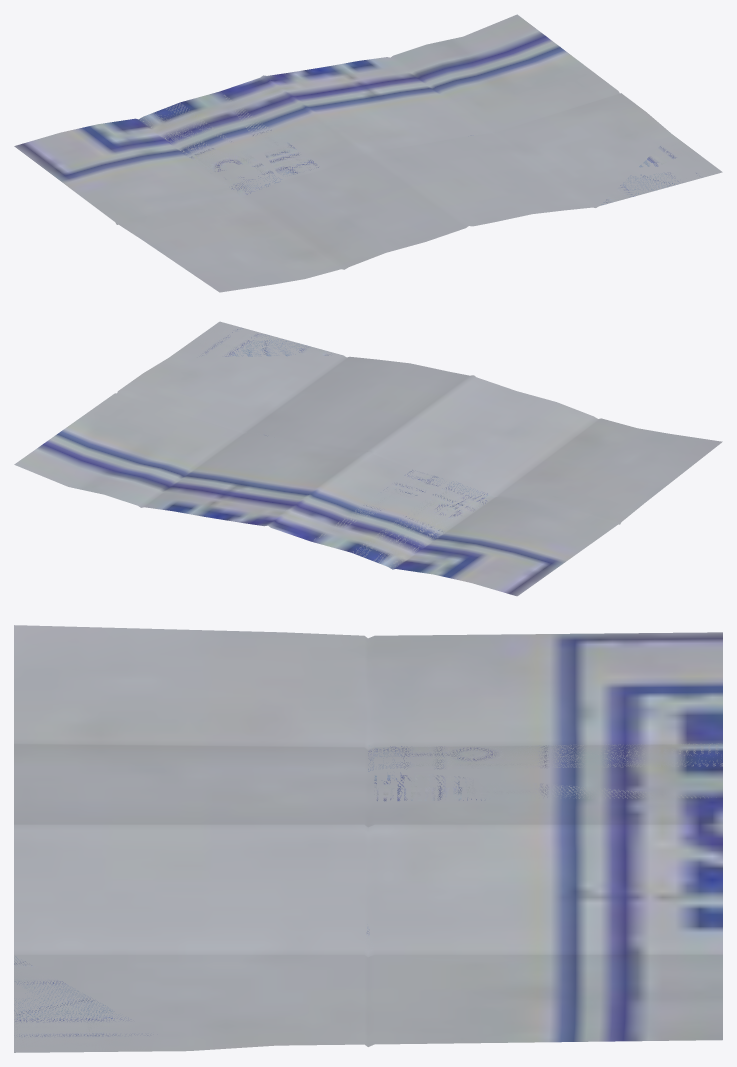
The picture shows the model from 3 angles, top to bottom: view 1: azimuth 30°, elevation 25°; view 2: azimuth 150°, elevation 25°; view 3: azimuth 270°, elevation 25°; orthographic projection. The views are drawn at different scales.
Bounding box in the file's own units: 9.23 × 0.2991 × 6.53.
1 material, 1 textured.
